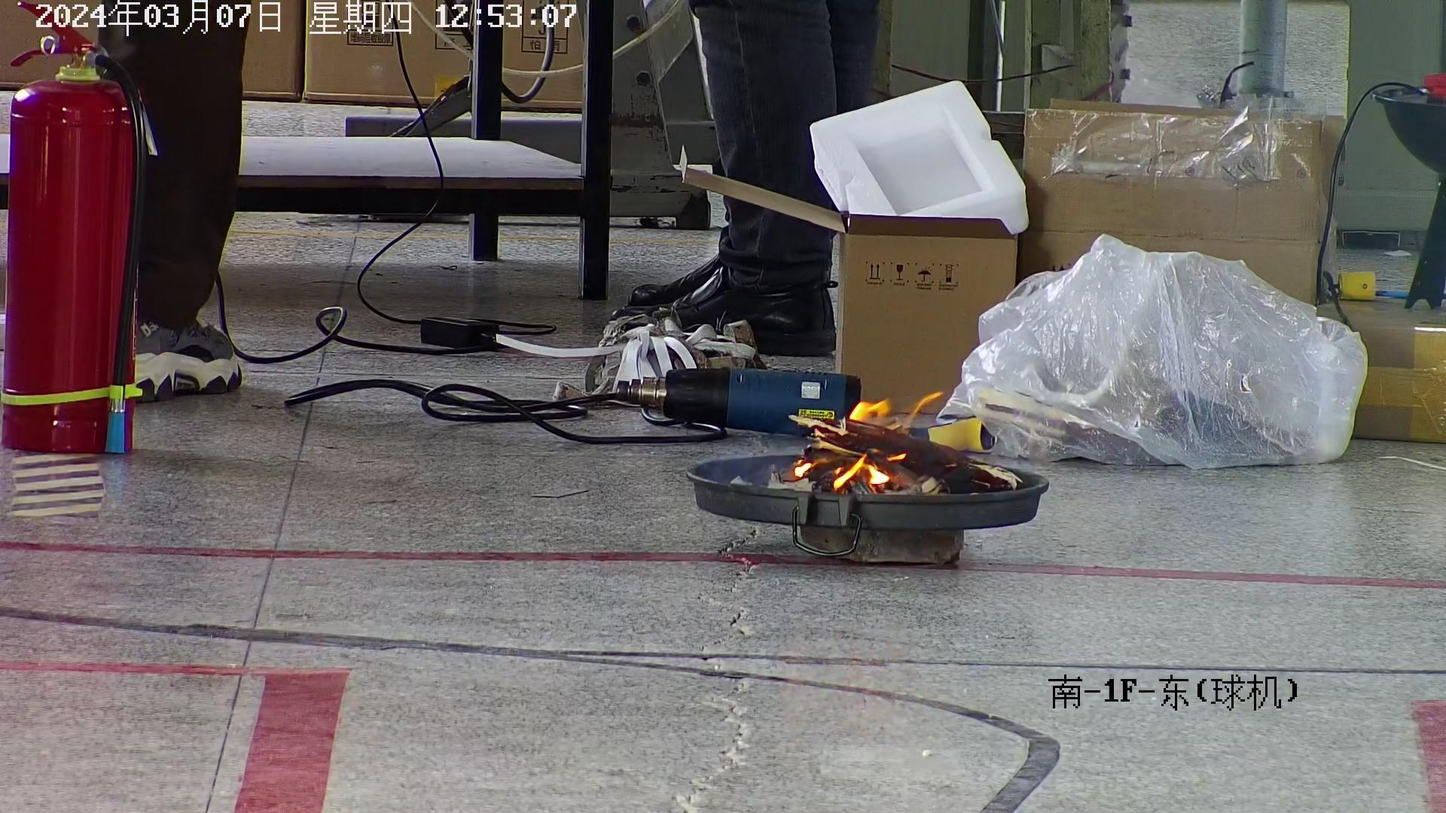fire: (791, 400, 947, 493)
